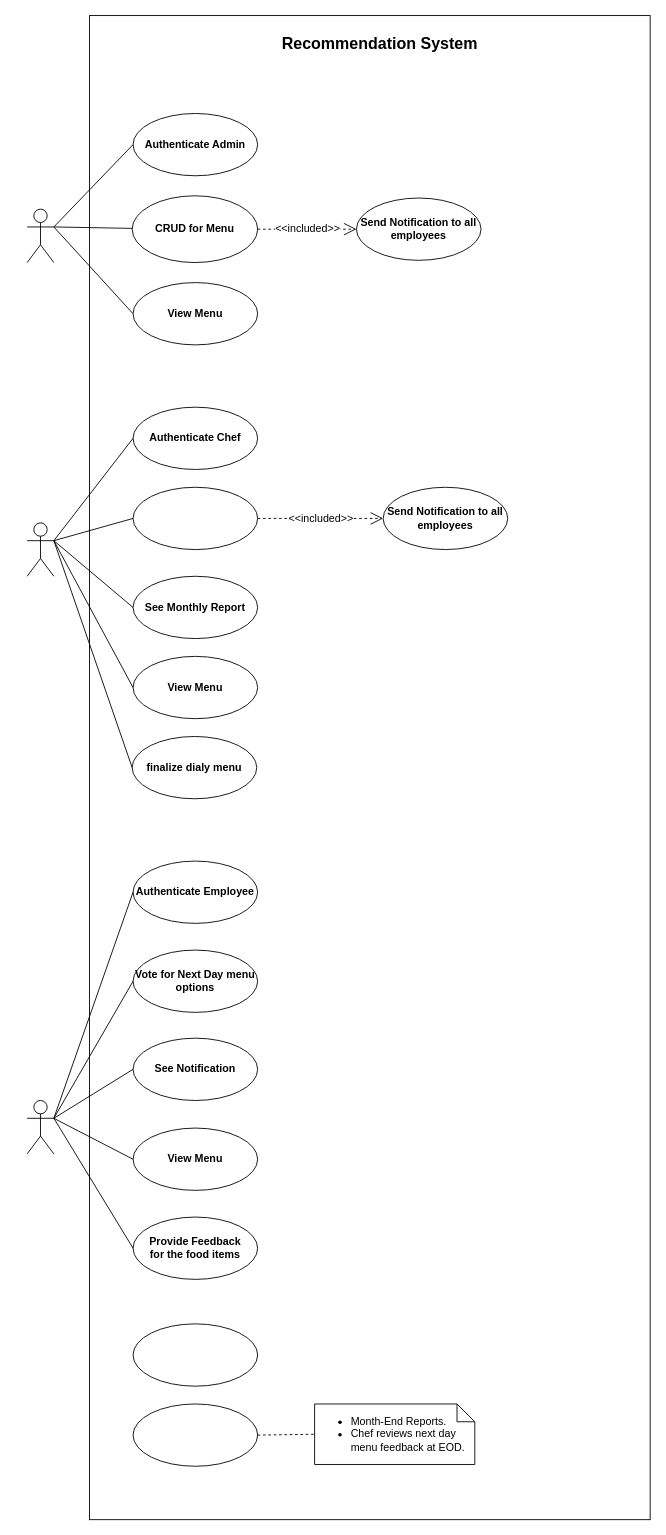
The diagram is 666 pixels wide and 1535 high, and some of its shapes have lost their labels. Here are the shapes that lost their labels. From the top down, the centre of each, then its label:
At point 40,235: "A dmin".
At point 195,518: "Provide Next Day menu options".
At point 40,549: "Chef".
At point 40,1127: "Employee".
At point 195,1354: "Generate Monthly Report".
At point 195,1434: "Awareness of the local time".
